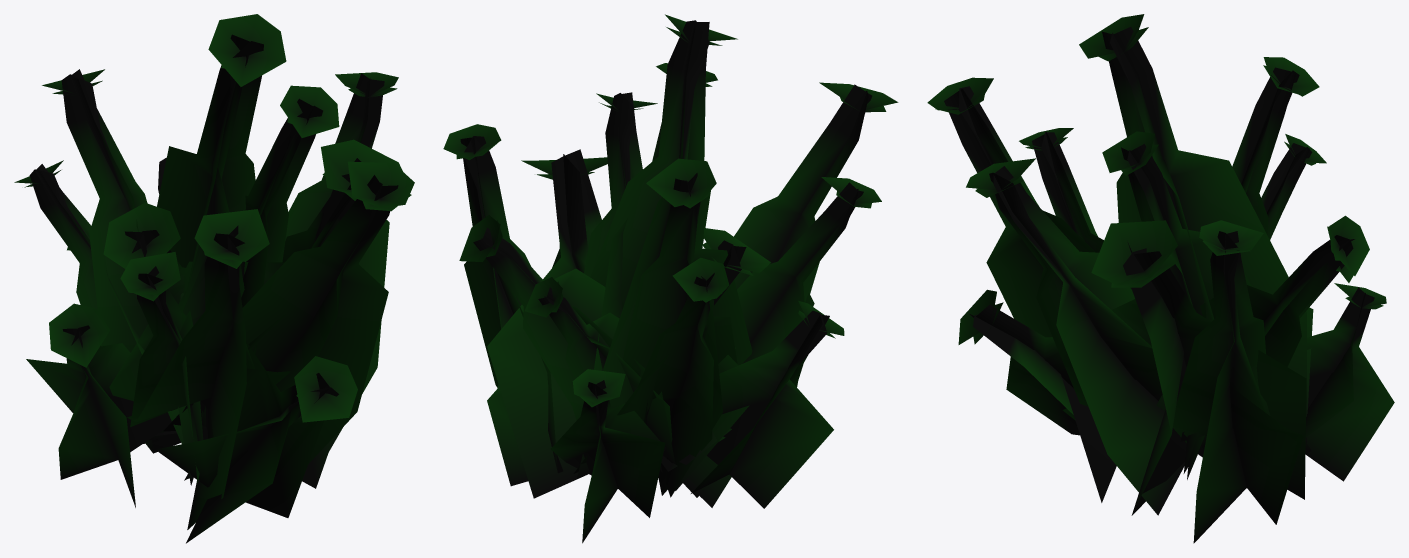
File: FlowersWTTFE-A.fbx
3 renders of one model, left to right at view 1: azimuth 30°, elevation 25°; view 2: azimuth 150°, elevation 25°; view 3: azimuth 270°, elevation 25°, orthographic. The views are drawn at different scales.
Visible parts, largest first — view 1: FlowersWTTFE-A_LOD0; view 2: FlowersWTTFE-A_LOD0; view 3: FlowersWTTFE-A_LOD0.
Part boxes in pixels (x1,y1,x2,y2): FlowersWTTFE-A_LOD0: (14, 14, 414, 543); FlowersWTTFE-A_LOD0: (443, 14, 898, 543); FlowersWTTFE-A_LOD0: (927, 14, 1394, 543).
Size of what is drawn, in the model's own units: 85.48 by 108 by 94.49.
